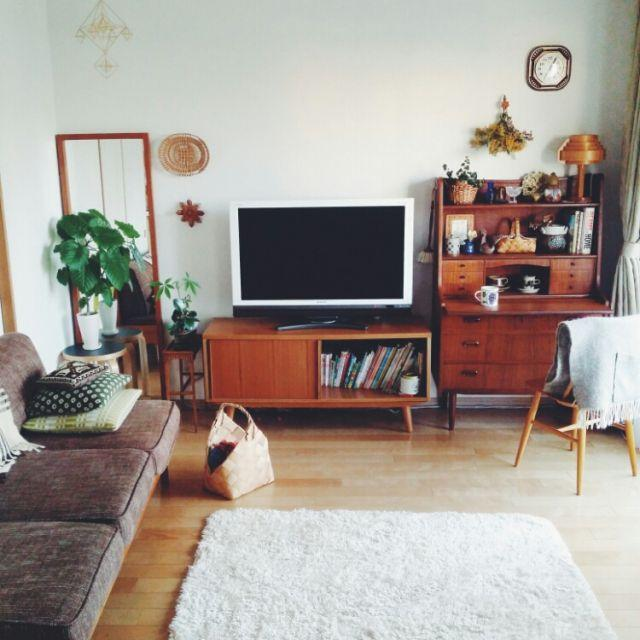vintage chair: (532, 312, 637, 503)
vintage shelf: (435, 170, 606, 427), (203, 309, 434, 436)
vintage sofa: (1, 331, 185, 640)
